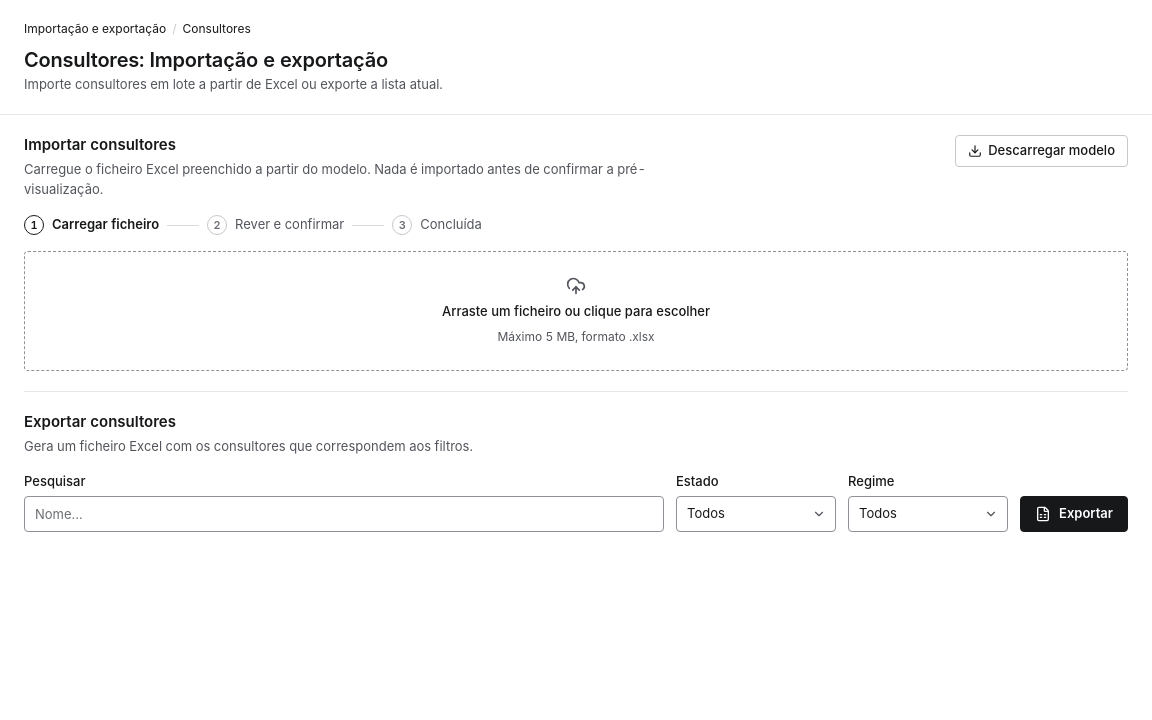
Consultant import › export sends the chosen filters to the existing export endpoint, and reports a failure
Expected: the heading "Exportar consultores" is shown, [24,412,176,430]
Select "Ativos" in the dropdown labelled "Estado" at [756, 514], box [676,496,836,532]
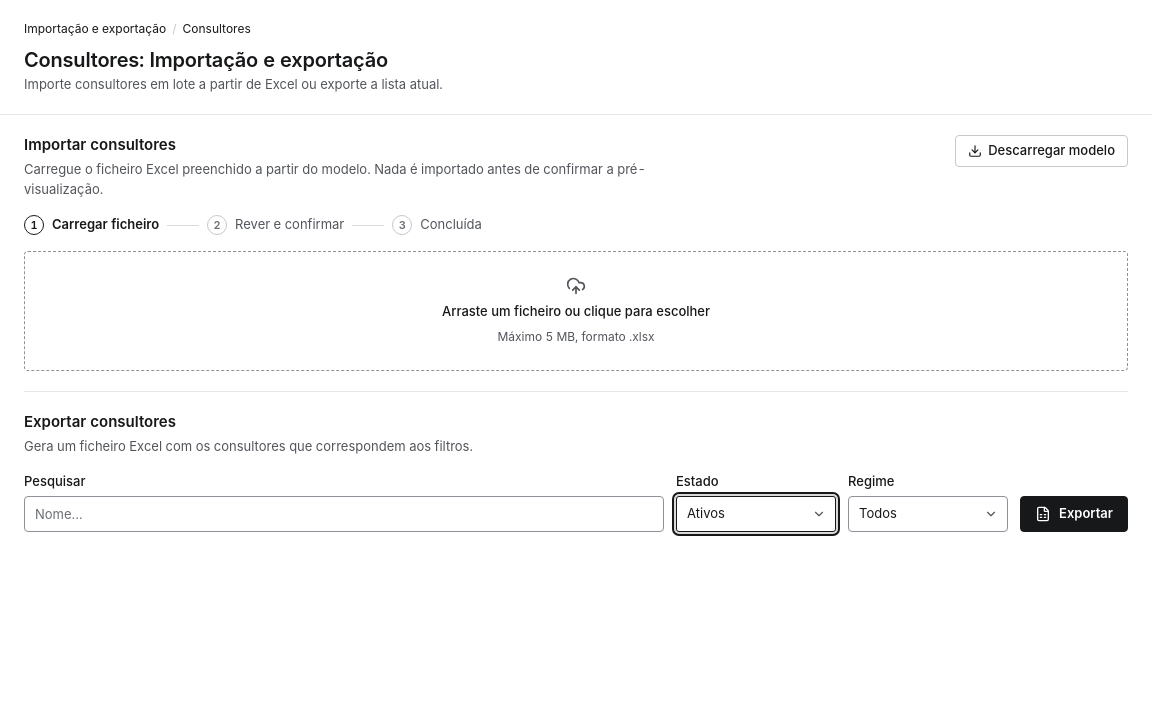
Select "Externo" in the dropdown labelled "Regime" at [928, 514], box [848,496,1008,532]
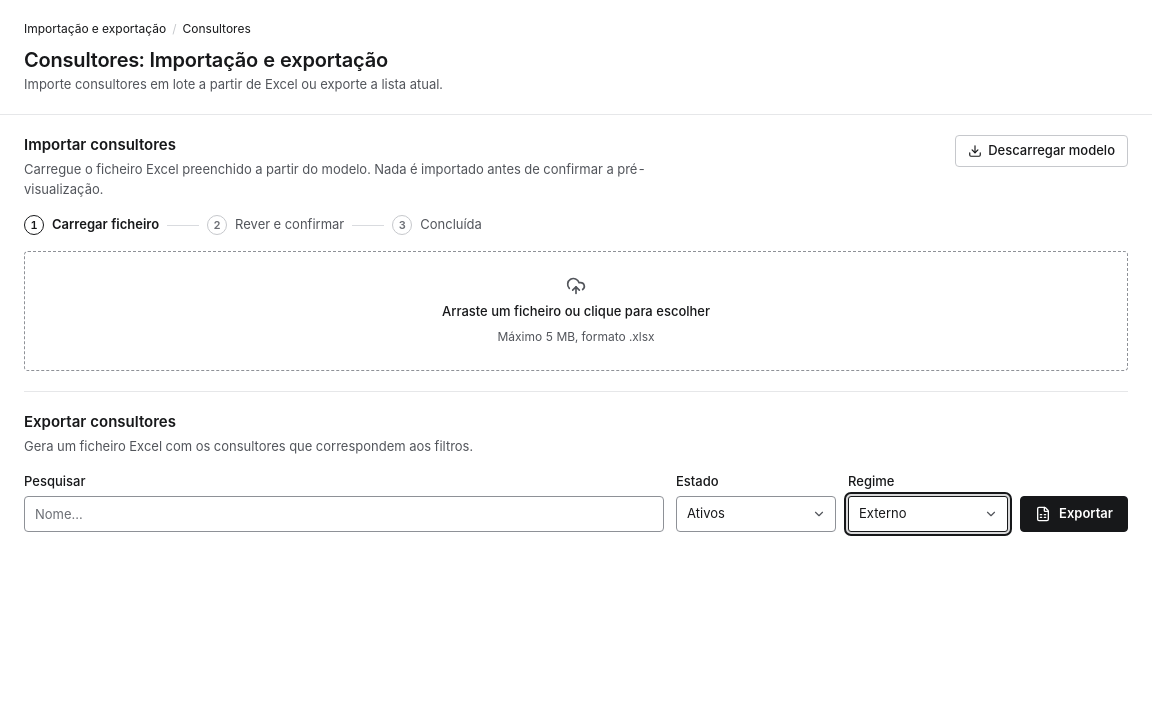
Click the button "Exportar" at [1074, 514], box [1020,496,1128,532]
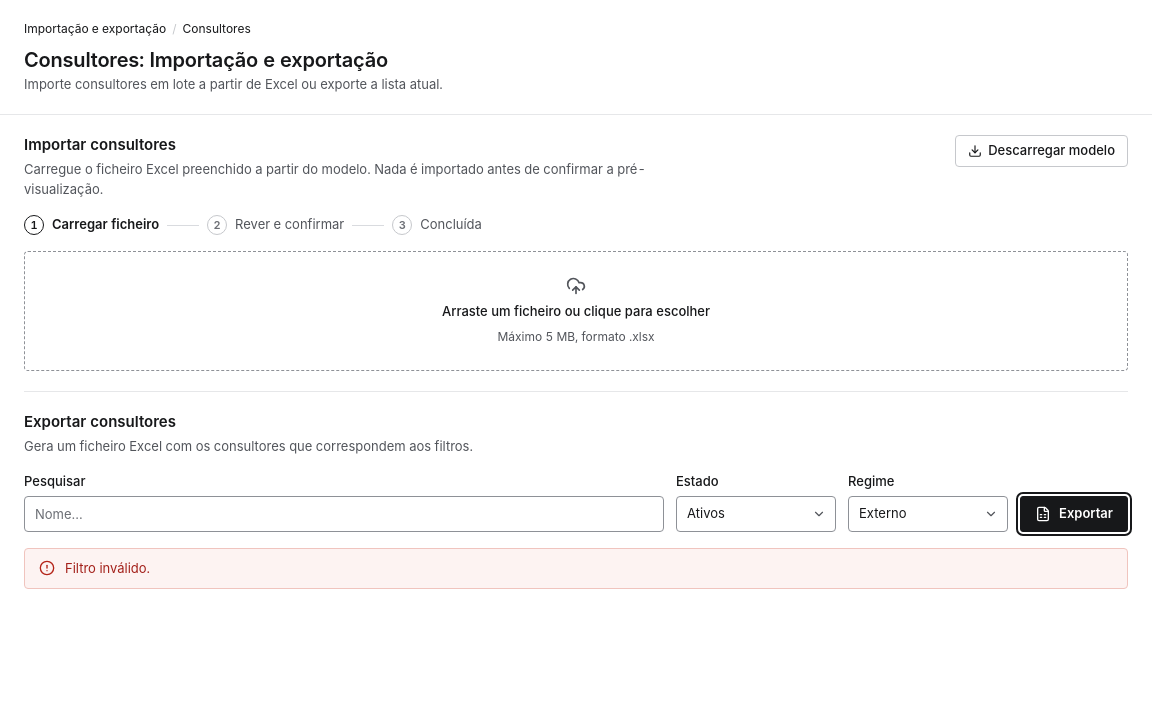
Expected: the text "Filtro inválido." is shown, [65,558,150,578]
